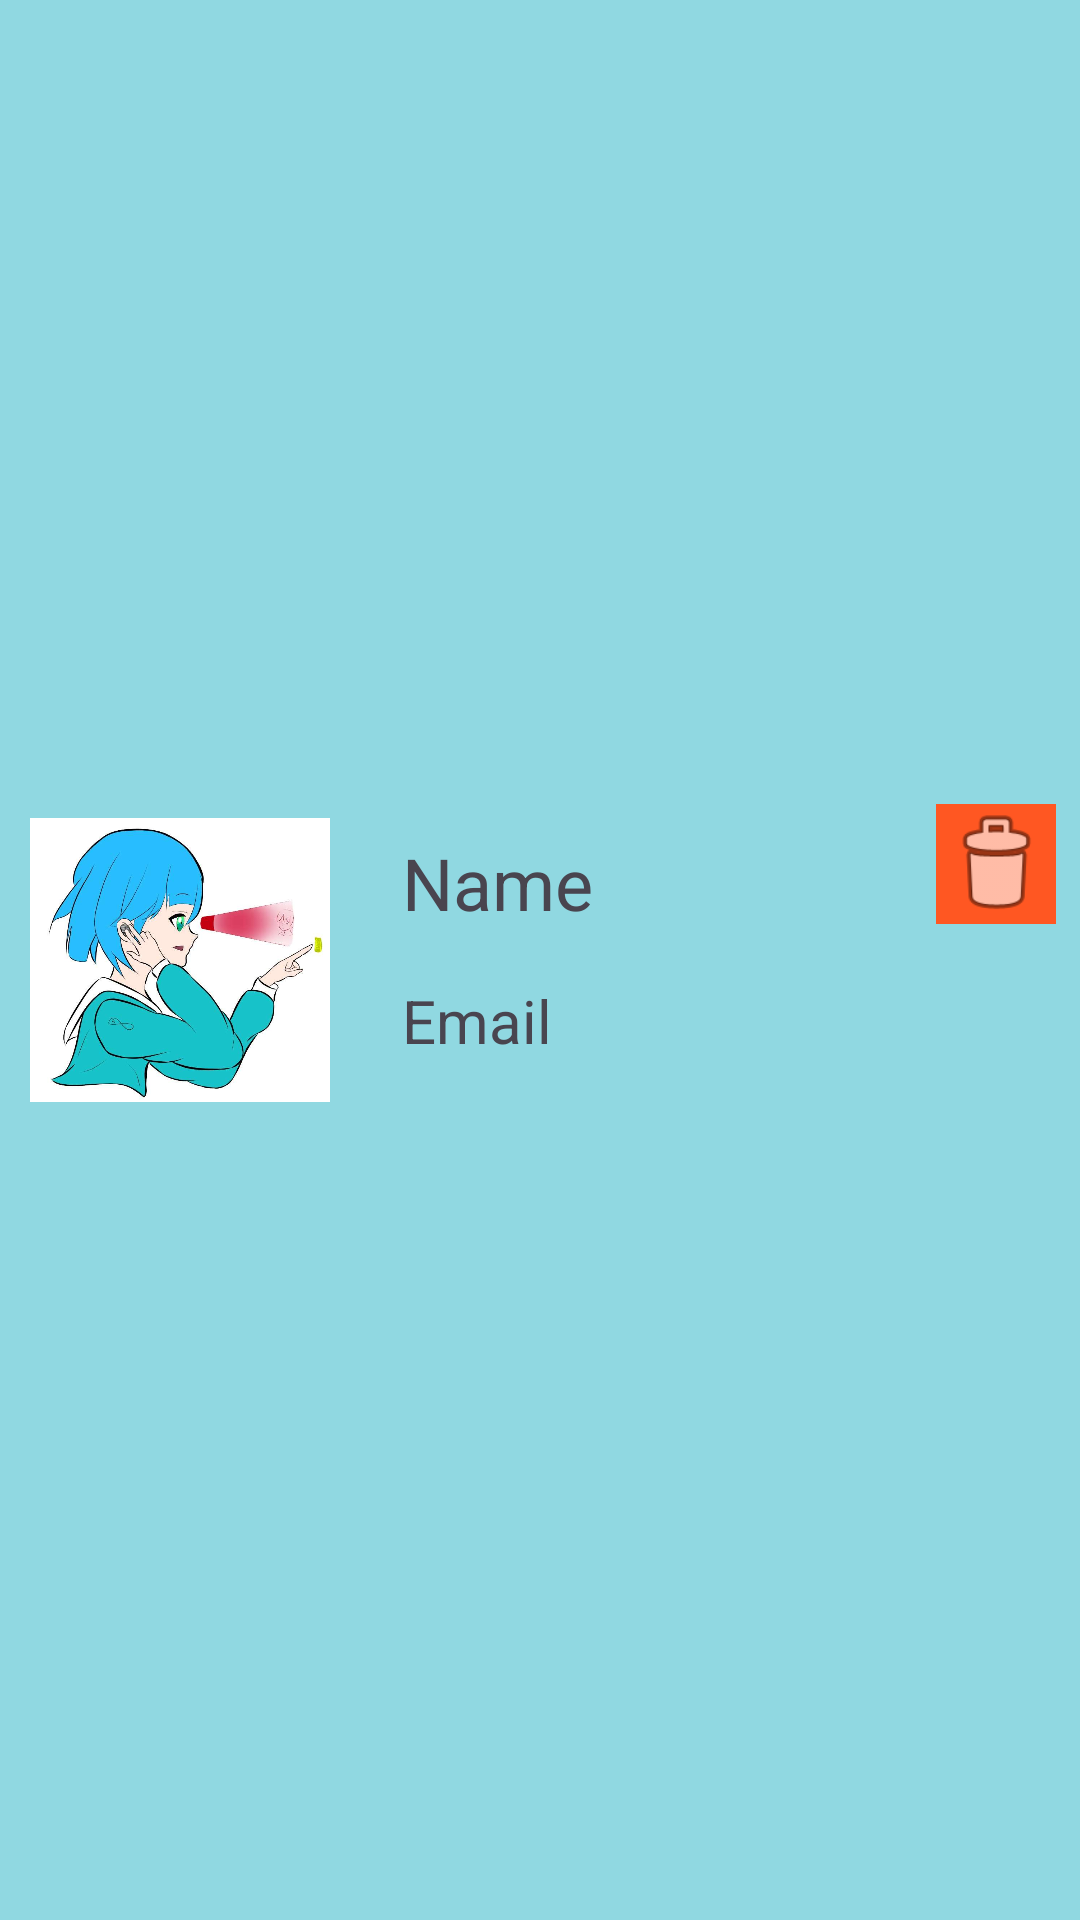

Named icons in this screenshot (1080 × 1920) and their bounding boxes, (x1, y1, x2, y2):
delete: (936, 804, 1056, 924)
